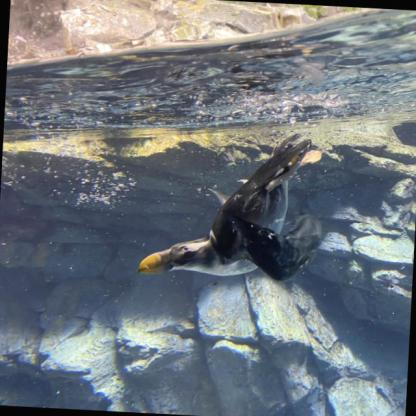puffin: (132, 126, 326, 288)
